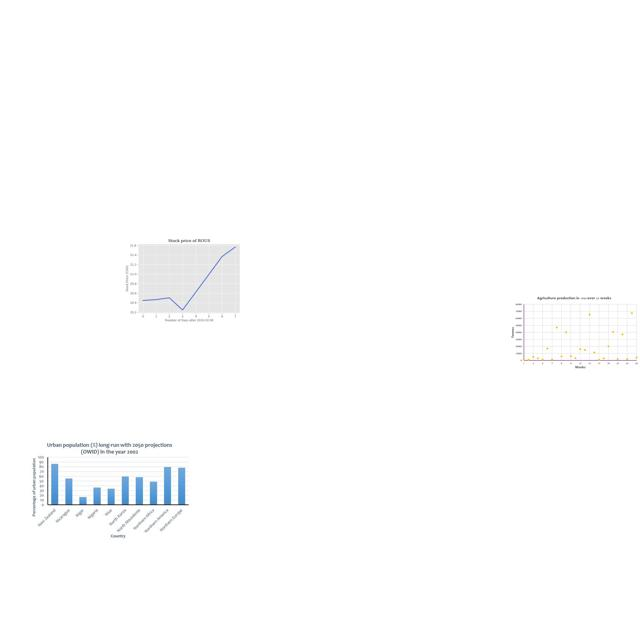Graph: (28, 440, 191, 539), (122, 229, 253, 327), (510, 295, 639, 369)
